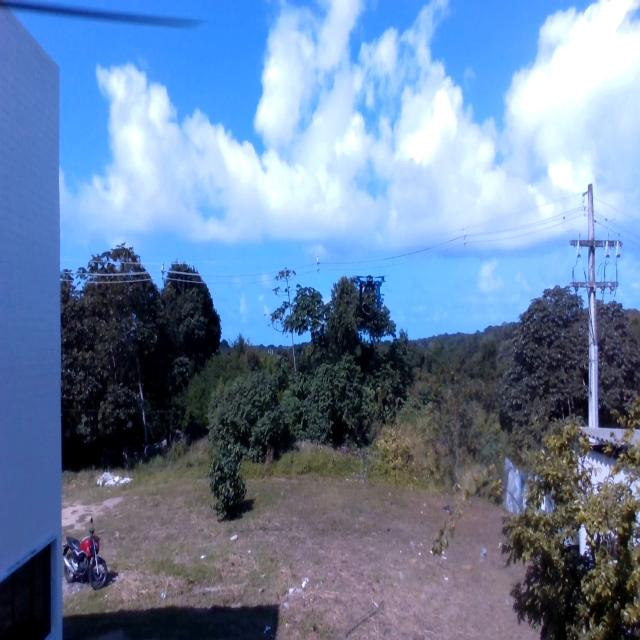-uav-: (343, 258, 389, 339)
